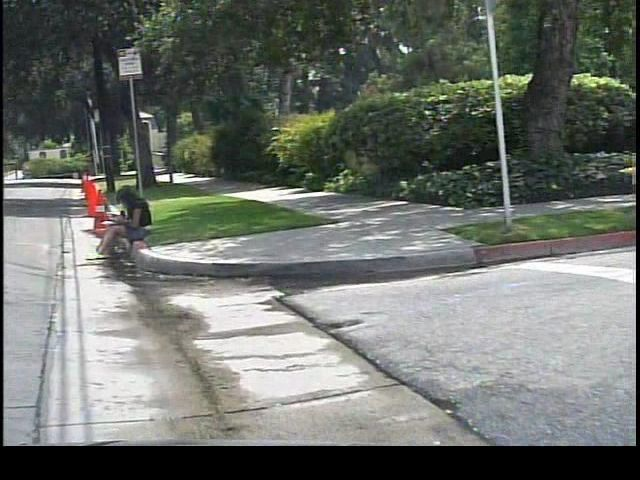person: (76, 184, 155, 263)
